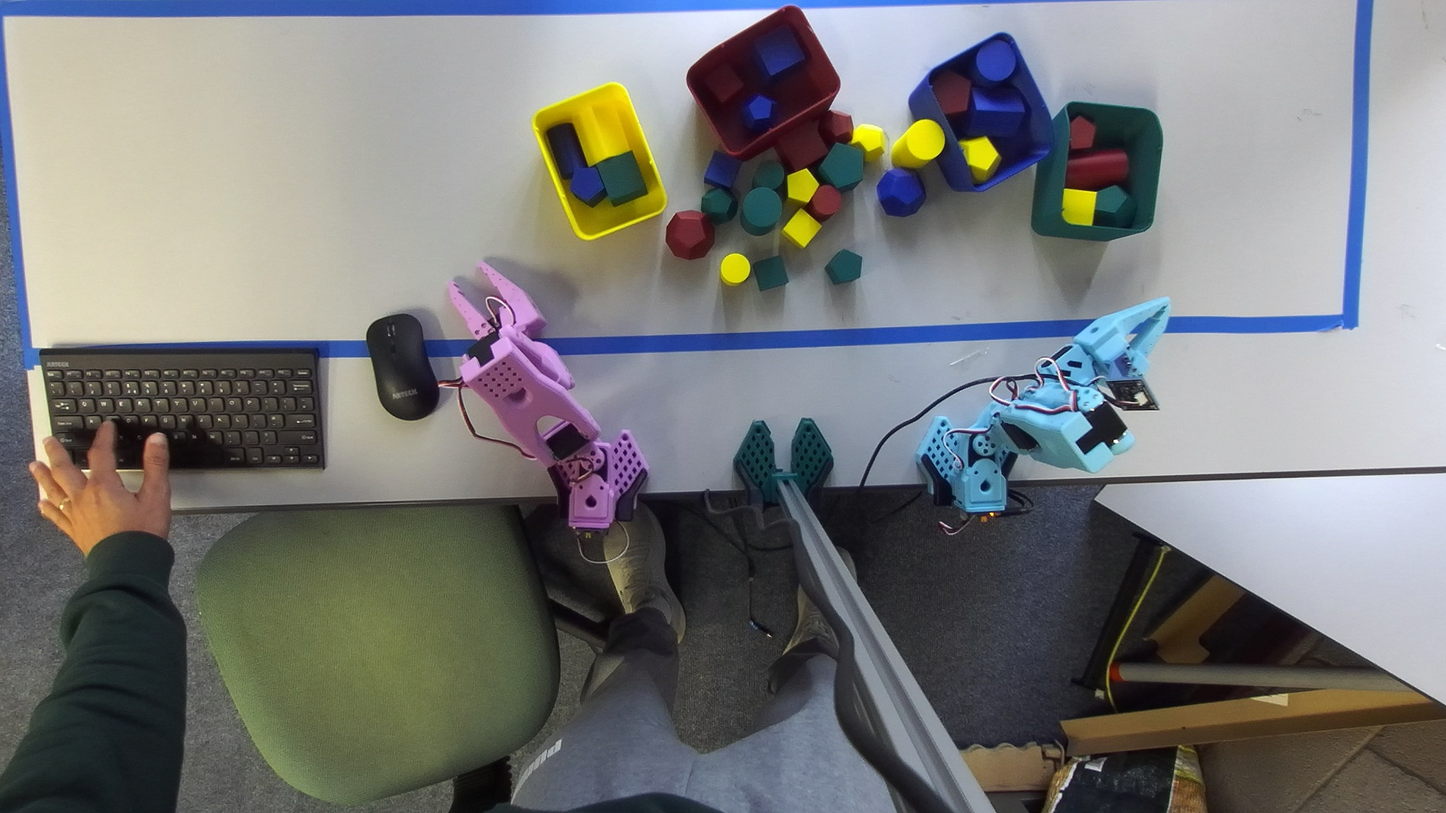bin: (686, 6, 840, 159), (908, 32, 1053, 190), (532, 83, 666, 239), (1031, 102, 1163, 240)
cube: (959, 87, 1027, 137), (593, 151, 646, 205), (775, 121, 828, 172), (755, 26, 805, 77), (704, 64, 743, 102), (782, 209, 820, 247), (703, 151, 741, 188), (1062, 188, 1097, 226), (752, 255, 788, 291)
cylinder: (891, 120, 944, 168), (1066, 149, 1127, 190), (546, 123, 587, 179), (740, 187, 782, 235), (806, 184, 841, 222), (752, 160, 785, 196), (720, 253, 750, 285)
dodecahedron: (665, 211, 714, 260), (876, 168, 925, 217), (959, 136, 1000, 183), (1094, 185, 1136, 227), (741, 93, 778, 132), (850, 124, 886, 161), (701, 187, 737, 223), (819, 110, 853, 145), (1069, 116, 1095, 149)
gripper: (1074, 297, 1170, 380), (447, 260, 546, 340)
hexagonal: (574, 101, 628, 163), (814, 142, 863, 190), (569, 166, 606, 206), (825, 249, 862, 283), (787, 169, 819, 206)
